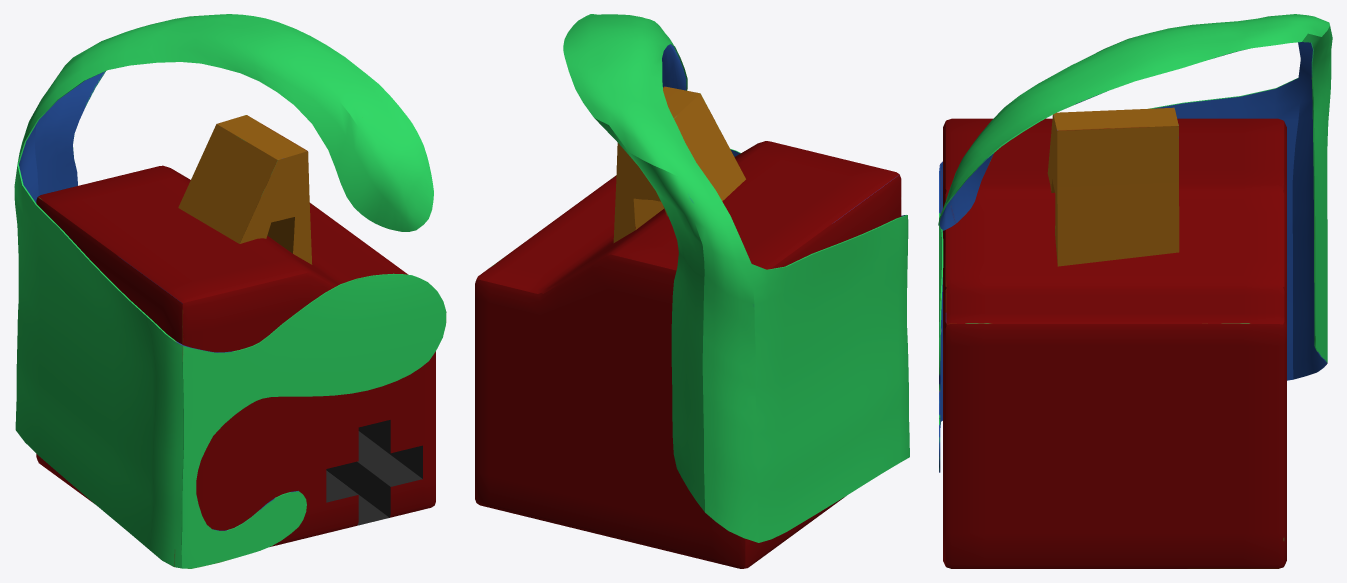
File: hospitalcollision.fbx
The picture shows the model from 3 angles, left to right: view 1: azimuth 30°, elevation 25°; view 2: azimuth 150°, elevation 25°; view 3: azimuth 270°, elevation 25°; orthographic projection. The views are drawn at different scales.
Visible parts, largest first — view 1: Hospital; view 2: Hospital; view 3: Hospital.
Part boxes in pixels (<box>): Hospital: <box>14,14,446,568</box>; Hospital: <box>475,14,909,568</box>; Hospital: <box>938,14,1332,568</box>.
Size of the model in its own units: 291 by 416 by 305.
Materials: 2 (1 with a texture image).
